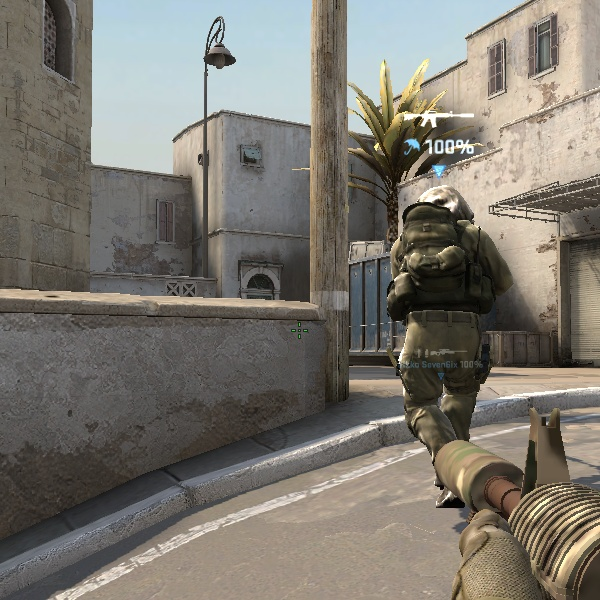ct_body: (380, 184, 543, 507)
